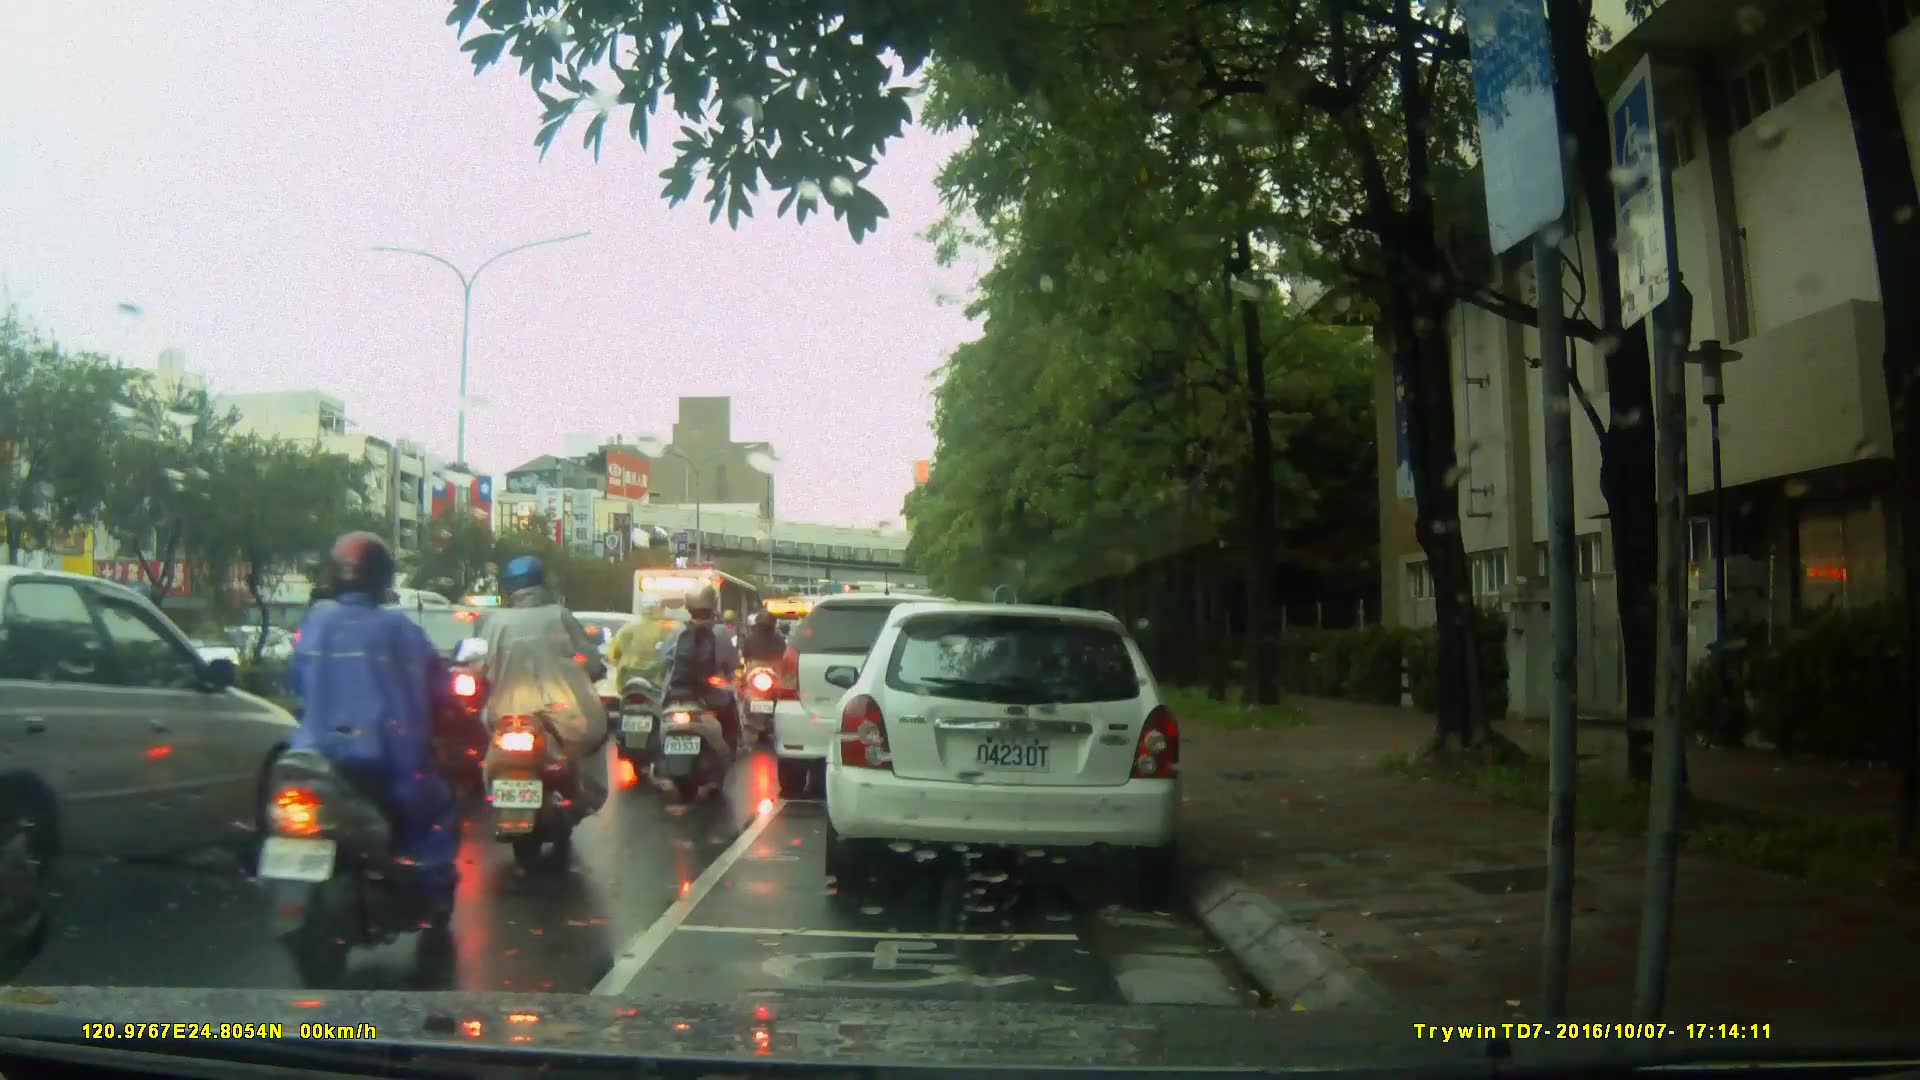rider: (253, 526, 454, 962), (465, 551, 599, 869), (654, 586, 741, 804), (612, 601, 685, 772), (737, 612, 793, 743)
vehicle: (5, 566, 307, 952), (831, 592, 1196, 897), (768, 592, 999, 802), (300, 604, 541, 775), (627, 566, 766, 700), (508, 609, 648, 723)
